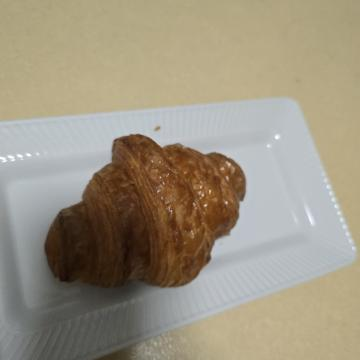croissant: (124, 100, 298, 328)
